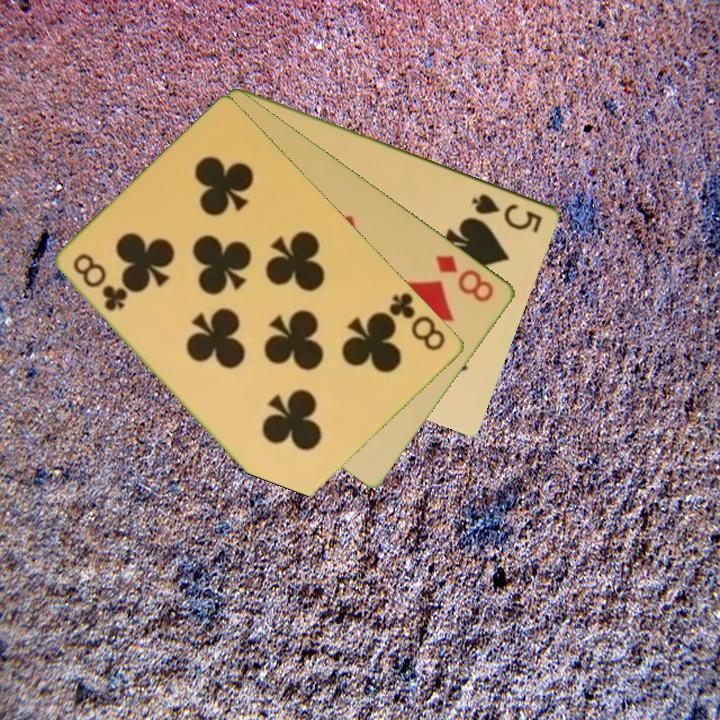5s: (468, 190, 546, 236)
8c: (385, 289, 449, 354), (70, 249, 132, 315)
8d: (432, 251, 498, 305)
